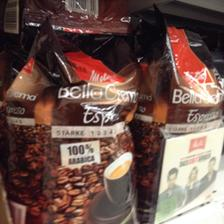Kaffee: (4, 20, 138, 224), (136, 21, 224, 223)
